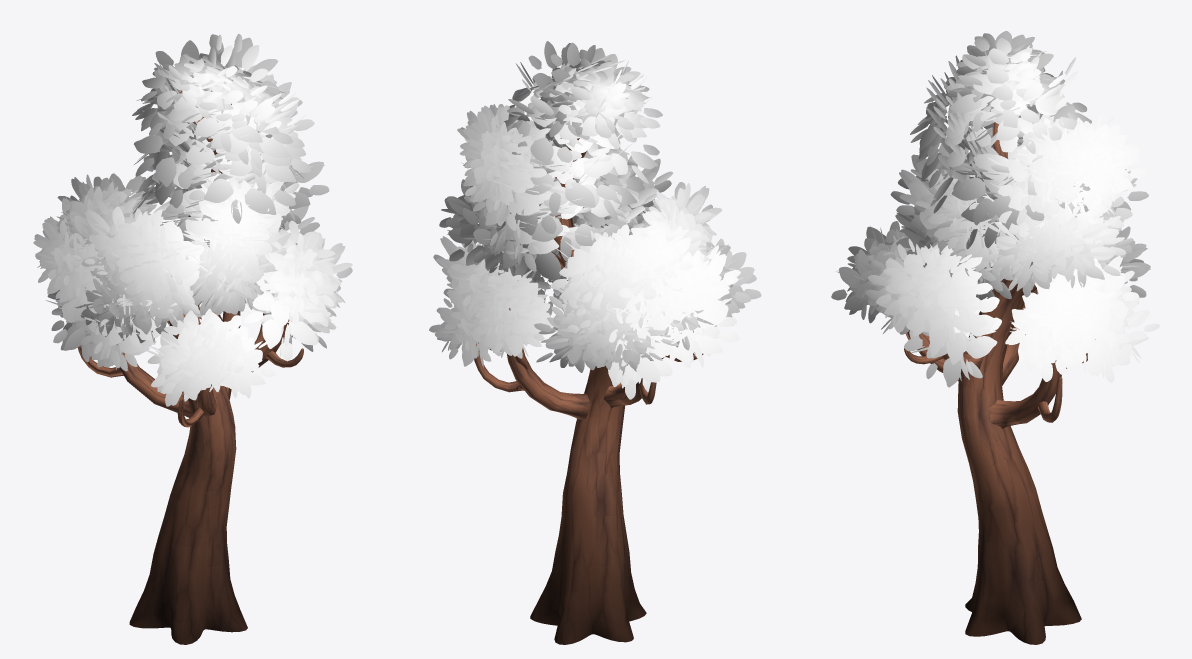
File: CommonTree_2.gltf
3 renders of one model, left to right at view 1: azimuth 30°, elevation 25°; view 2: azimuth 150°, elevation 25°; view 3: azimuth 270°, elevation 25°, orthographic. The views are drawn at different scales.
Parts seen in each view (by area): view 1: CommonTree_2; view 2: CommonTree_2; view 3: CommonTree_2.
Part boxes in pixels (x1,y1,x2,y2): CommonTree_2: (33,34,352,644); CommonTree_2: (429,41,761,644); CommonTree_2: (831,31,1159,644).
Bounding box in the file's own units: 4.46 × 7.64 × 4.28.
2 materials, 2 textured.
